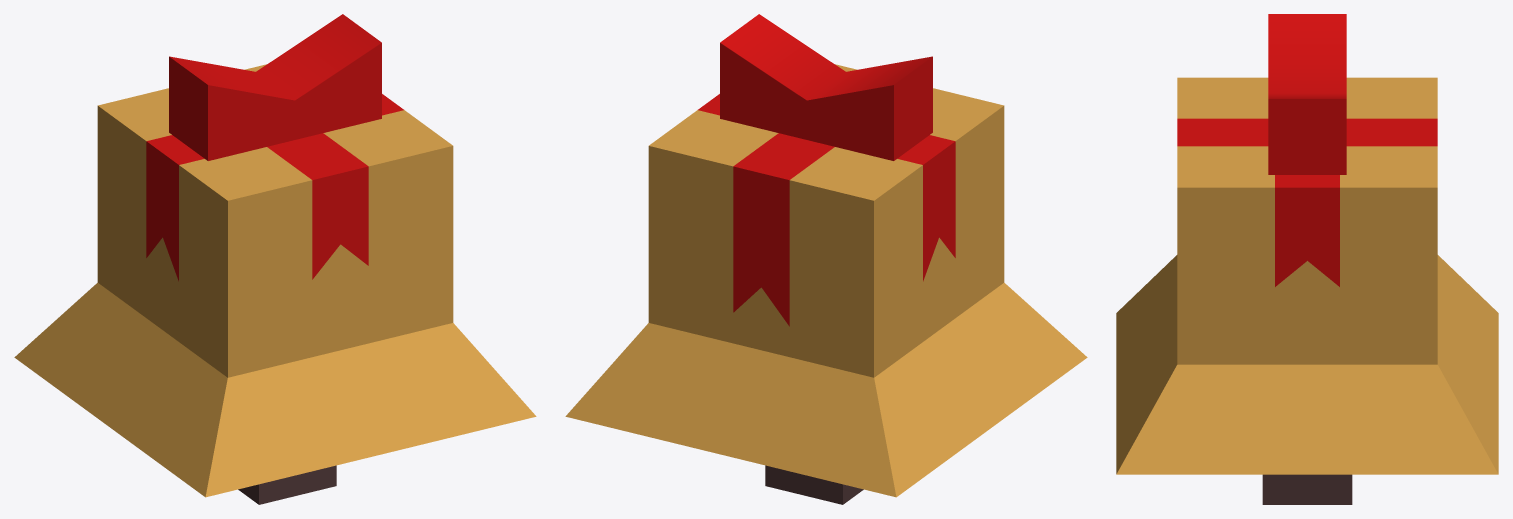
The model's file is 027 Xmas_bell.fbx.
The picture shows the model from 3 angles, left to right: view 1: azimuth 30°, elevation 25°; view 2: azimuth 150°, elevation 25°; view 3: azimuth 270°, elevation 25°; orthographic projection.
Parts seen in each view (by area): view 1: Lowpoly_Christmas_Pack_027:pCube4; view 2: Lowpoly_Christmas_Pack_027:pCube4; view 3: Lowpoly_Christmas_Pack_027:pCube4.
Boxes of the visible parts, x1,y1,x2,y2 form: Lowpoly_Christmas_Pack_027:pCube4: [14, 14, 536, 504]; Lowpoly_Christmas_Pack_027:pCube4: [565, 14, 1087, 504]; Lowpoly_Christmas_Pack_027:pCube4: [1116, 14, 1498, 504].
Size of the model in its own units: 1.47 by 1.82 by 1.47.
